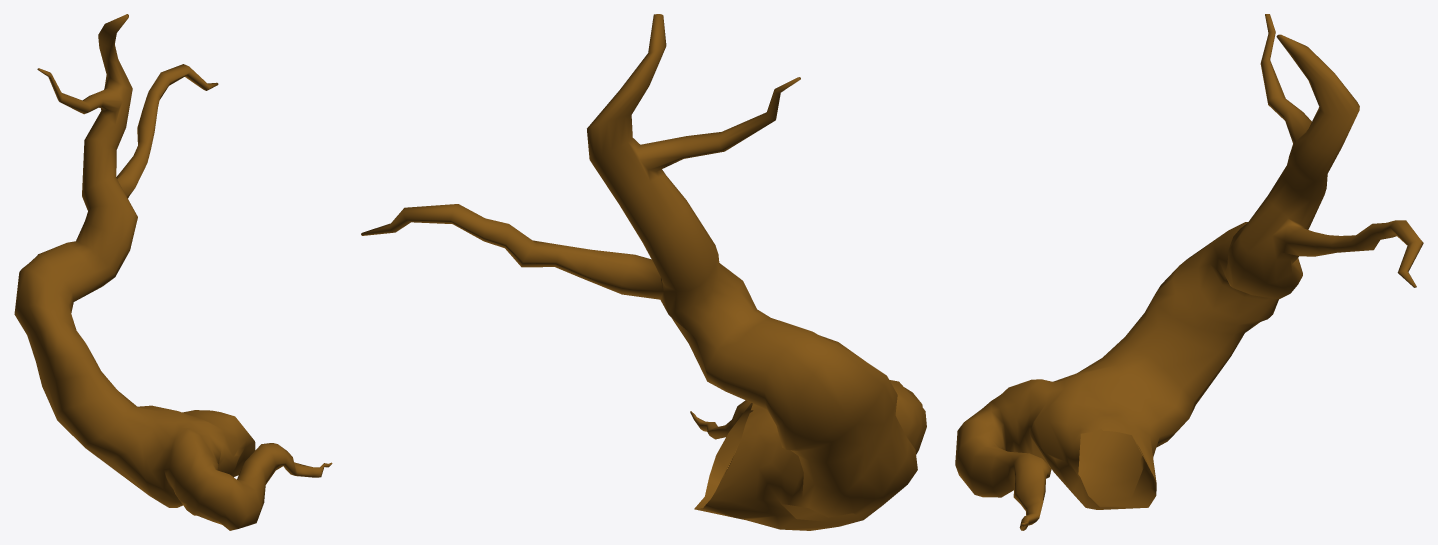
File: mutou2.FBX
The picture shows the model from 3 angles, left to right: view 1: azimuth 30°, elevation 25°; view 2: azimuth 150°, elevation 25°; view 3: azimuth 270°, elevation 25°; orthographic projection. The views are drawn at different scales.
Parts seen in each view (by area): view 1: Cylinder028; view 2: Cylinder028; view 3: Cylinder028.
Boxes of the visible parts, bbox=[...] form: Cylinder028: bbox=[14, 14, 332, 530]; Cylinder028: bbox=[361, 14, 926, 530]; Cylinder028: bbox=[955, 14, 1423, 530].
Bounding box in the file's own units: 3.75 × 5.38 × 4.82.
